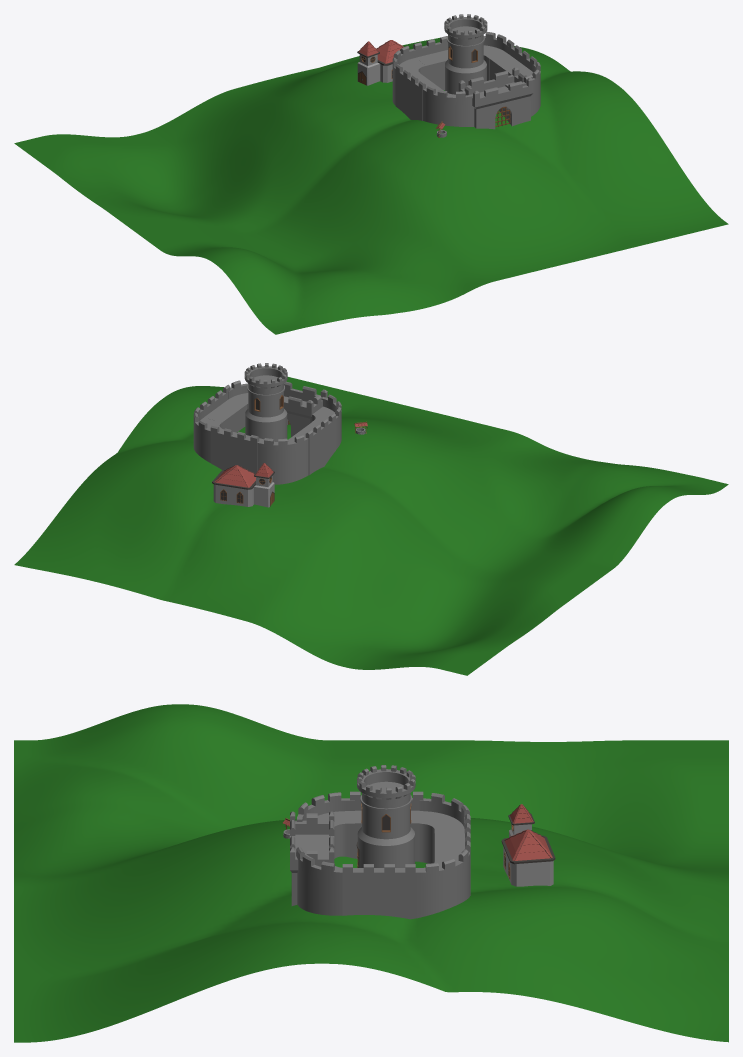
The model's file is CastleGate.fbx.
3 views of the same model, one above another, from view 1: azimuth 30°, elevation 25°; view 2: azimuth 150°, elevation 25°; view 3: azimuth 270°, elevation 25° (orthographic). The views are drawn at different scales.
Visible parts, largest first — view 1: CastleGate; view 2: CastleGate; view 3: CastleGate.
Boxes of the visible parts, x1=… form: CastleGate: x1=14, y1=14, x2=728, y2=334; CastleGate: x1=14, y1=363, x2=728, y2=675; CastleGate: x1=14, y1=704, x2=728, y2=1042.
Size of the model in its own units: 4812 by 1740 by 4812.
